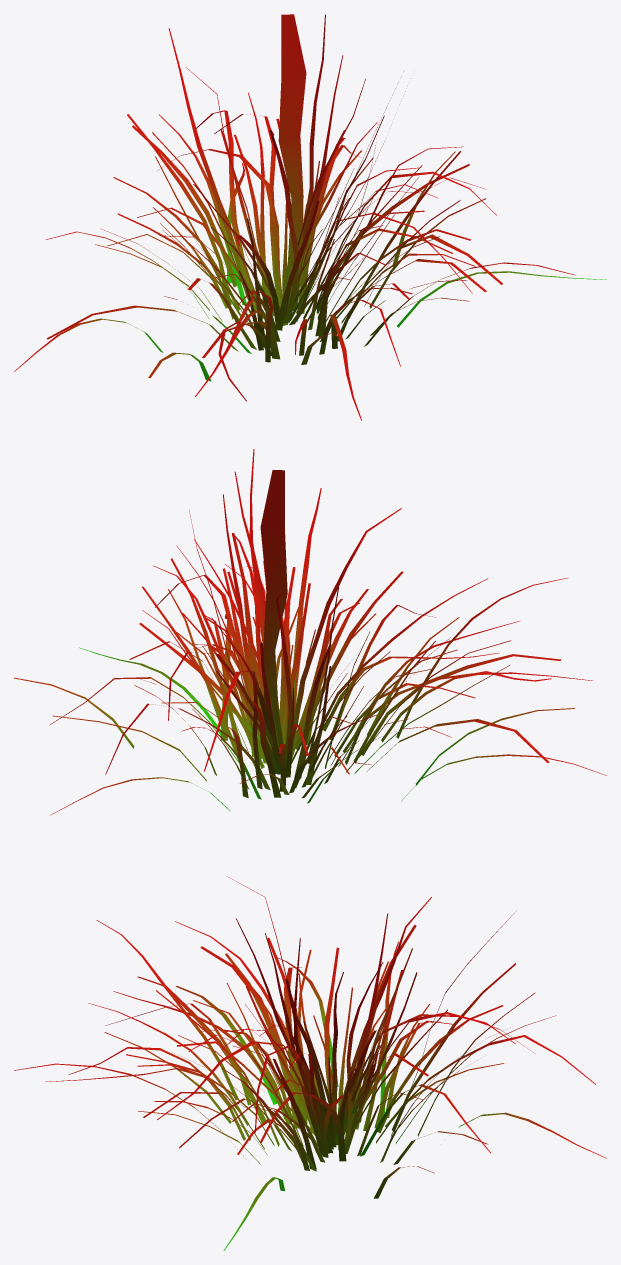
Rendered from Var11_LOD2.fbx.
3 renders of one model, top to bottom at view 1: azimuth 30°, elevation 25°; view 2: azimuth 150°, elevation 25°; view 3: azimuth 270°, elevation 25°, orthographic. The views are drawn at different scales.
Visible parts, largest first — view 1: _295r_Var11_LOD2; view 2: _295r_Var11_LOD2; view 3: _295r_Var11_LOD2.
Boxes of the visible parts, box(x1,y1,x2,y2) form: _295r_Var11_LOD2: box(14, 14, 606, 420); _295r_Var11_LOD2: box(14, 449, 606, 815); _295r_Var11_LOD2: box(14, 876, 606, 1250).
Bounding box in the file's own units: 24.74 × 13.31 × 23.13.
